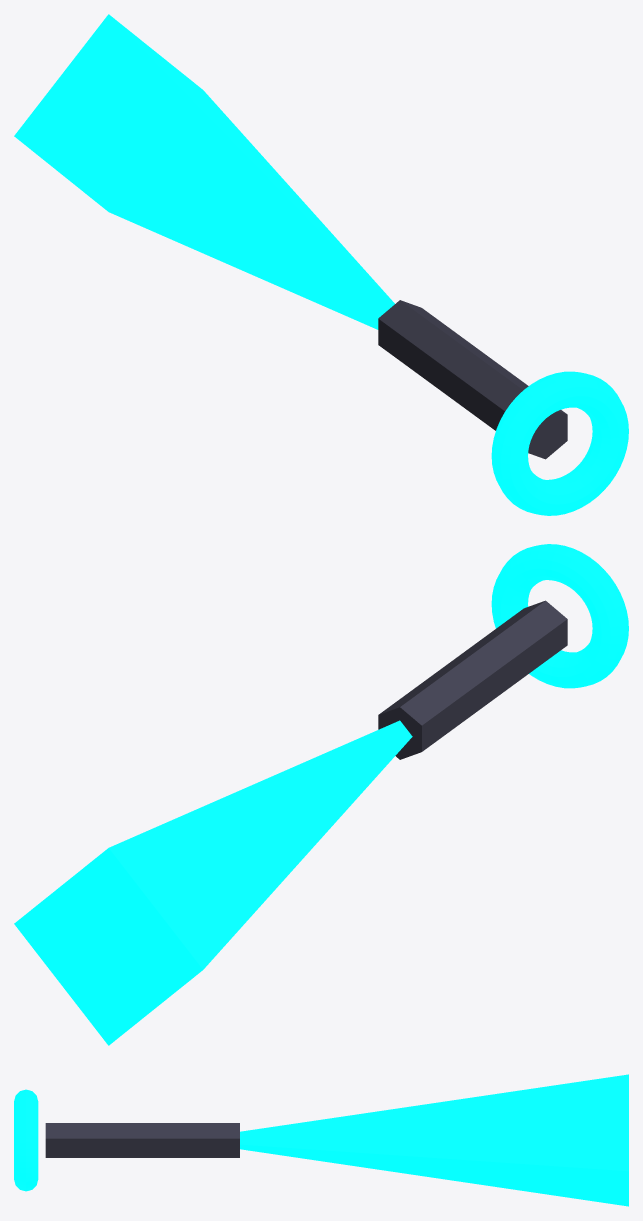
Rendered from weapon_kunai.glb.
3 views of the same model, one above another, from view 1: azimuth 30°, elevation 25°; view 2: azimuth 150°, elevation 25°; view 3: azimuth 270°, elevation 25° (orthographic). The views are drawn at different scales.
Visible parts, largest first — view 1: Cone, Torus, Cylinder; view 2: Cone, Cylinder, Torus; view 3: Cone, Cylinder, Torus.
Part boxes in pixels (left/top/right/bottom): Cone: left=14, top=14, right=394, bottom=329; Torus: left=491, top=371, right=628, bottom=515; Cylinder: left=378, top=300, right=567, bottom=459; Cone: left=14, top=720, right=412, bottom=1045; Cylinder: left=378, top=600, right=567, bottom=759; Torus: left=491, top=544, right=628, bottom=688; Cone: left=240, top=1074, right=628, bottom=1206; Cylinder: left=45, top=1123, right=239, bottom=1157; Torus: left=14, top=1089, right=38, bottom=1191.
Bounding box in the file's own units: 0.3 × 0.3 × 1.27.
